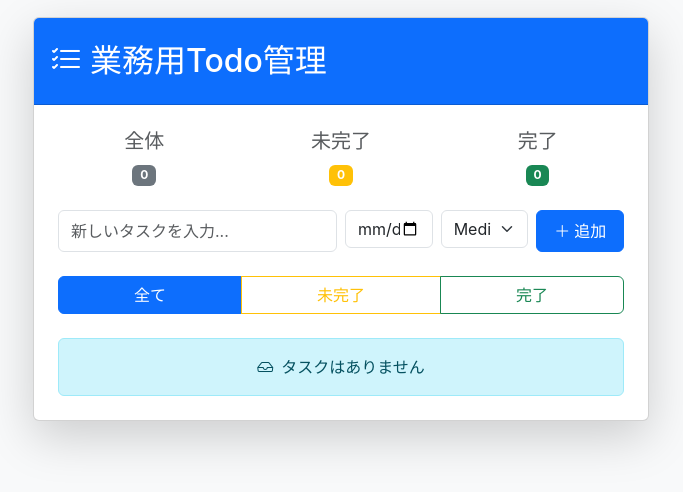
TodoApp コンポーネント › 削除ボタンでタスクが削除される
In the field with placeholder "新しいタスクを入力...": (198, 231) [58,210,337,252], type "テストタスク"
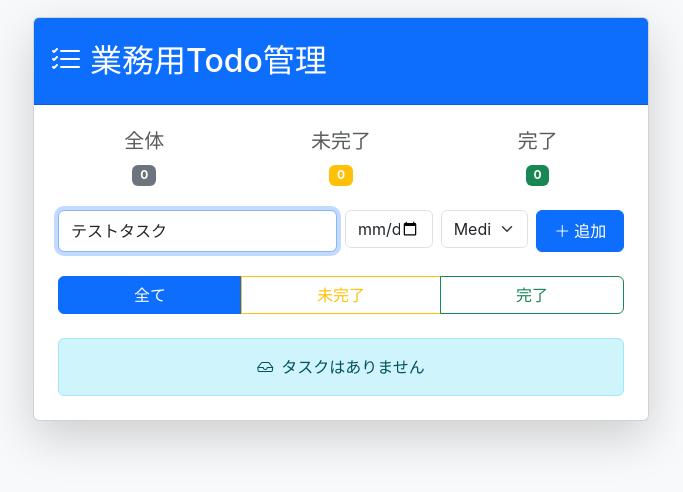
Click the button "追加": (580, 231) [536,210,624,252]
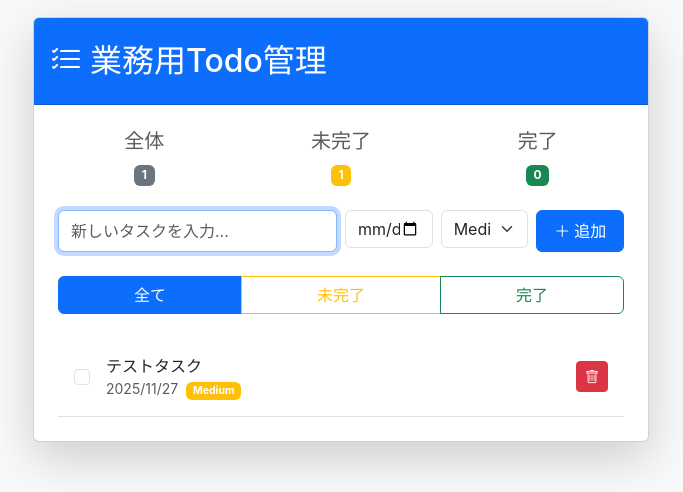
Click the button named "trash": (592, 377) [576,361,608,392]
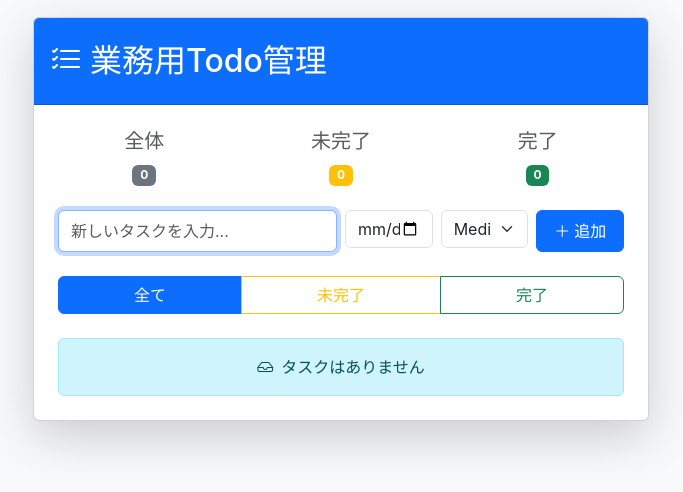
Expected: the text "テストタスク" is gone
